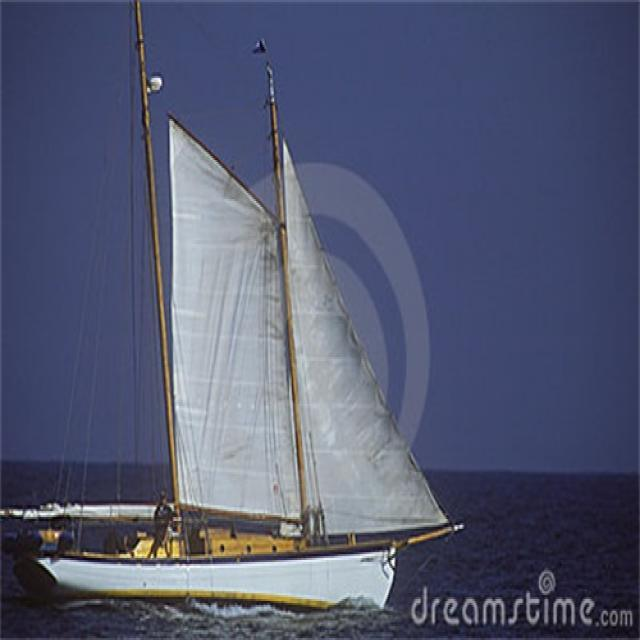Ship: (16, 14, 434, 614)
